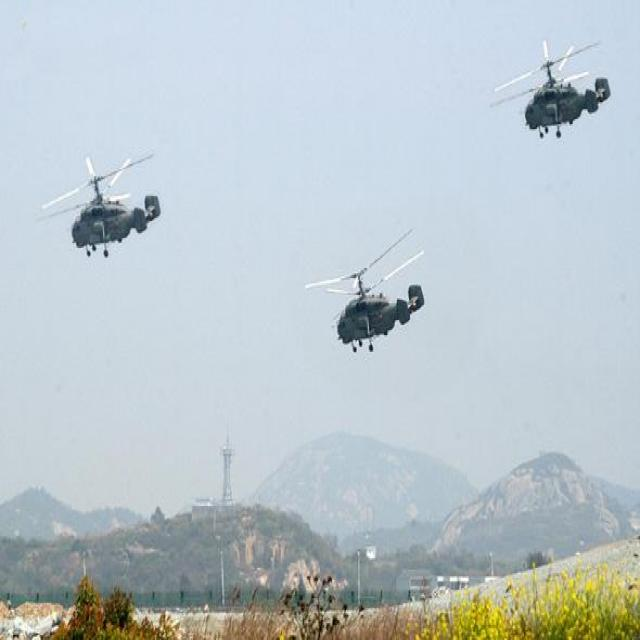MIL_HELO: (274, 218, 452, 354), (466, 28, 620, 152), (28, 133, 172, 262)
